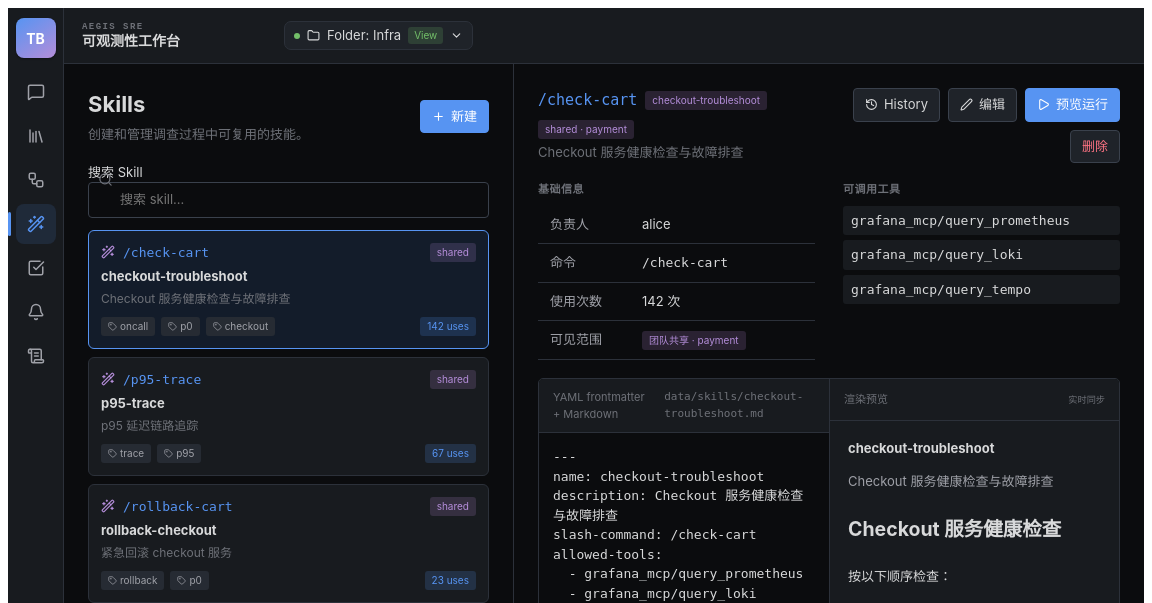
SkillsPage › allows cancelling while a Skill run is still streaming
Expected: the text "/check-cart" below "搜索 Skill" is shown, [123,244,209,260]
Step 1. Click the button "预览运行" → (1072, 105), box [1025,88,1120,122]
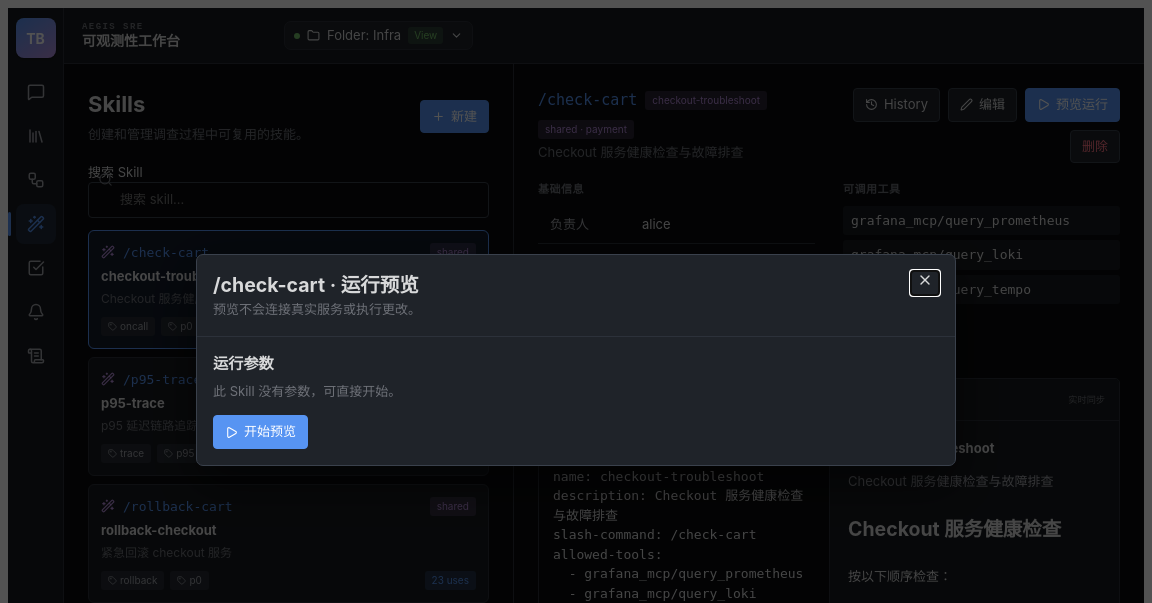
Step 2. Click the button "开始预览" → (260, 432), box [213,415,308,449]
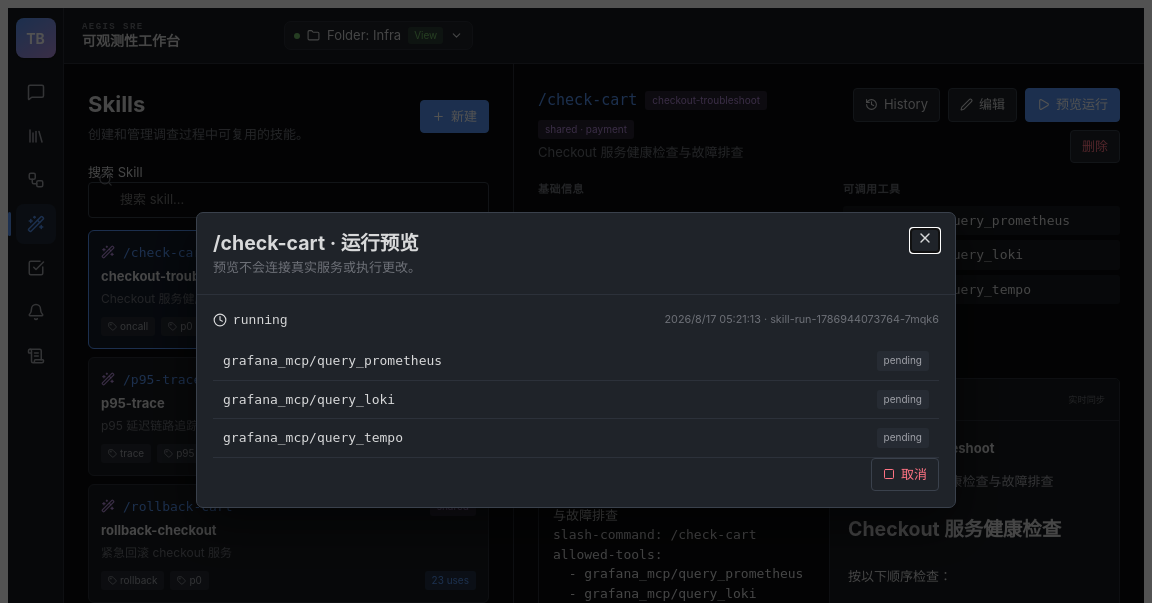
Expected: the button "取消" is enabled
Step 3. Click the button "取消" → (905, 474), box [871,458,939,491]
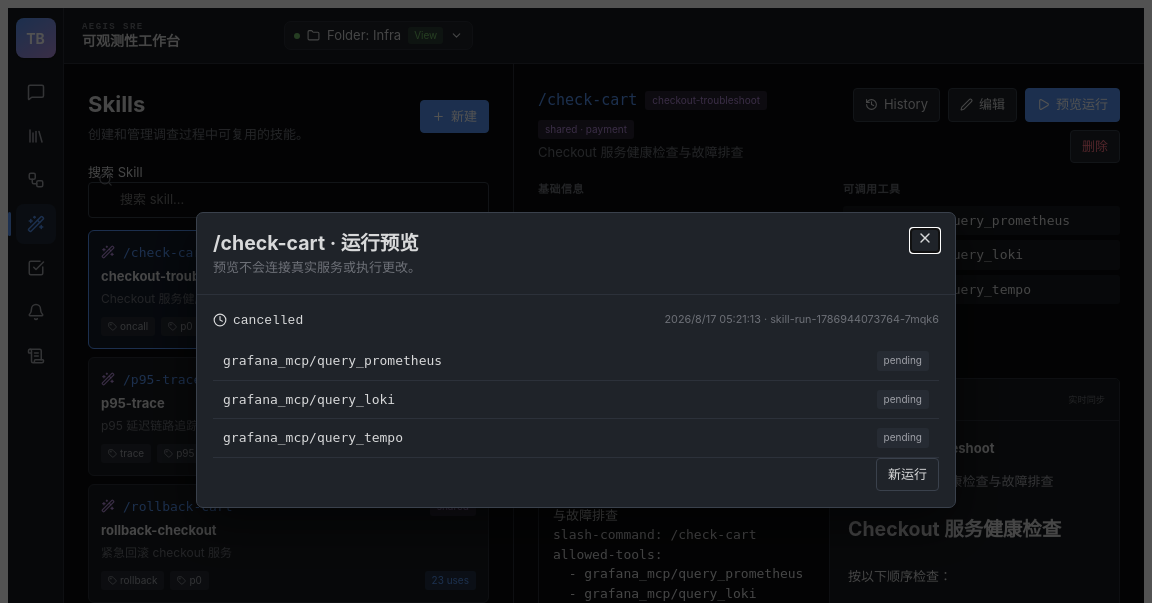
Expected: the text "cancelled" is shown, [213,311,303,330]
